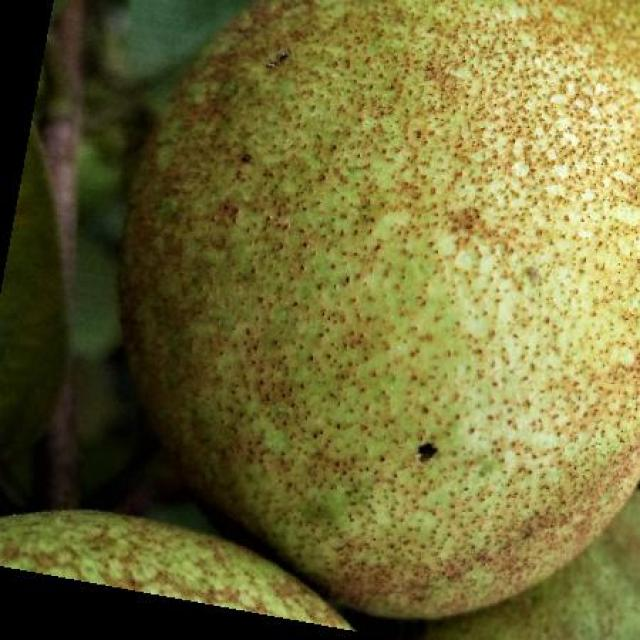Scab: (0, 511, 348, 628)
